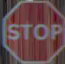Stop: (3, 3, 61, 59)
